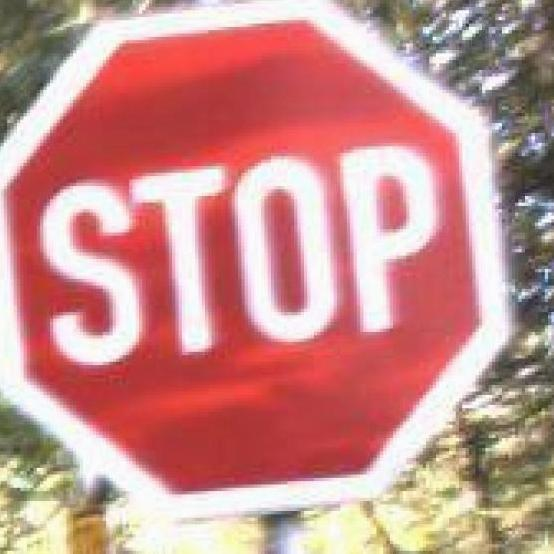stop_sign: (0, 0, 505, 521)
